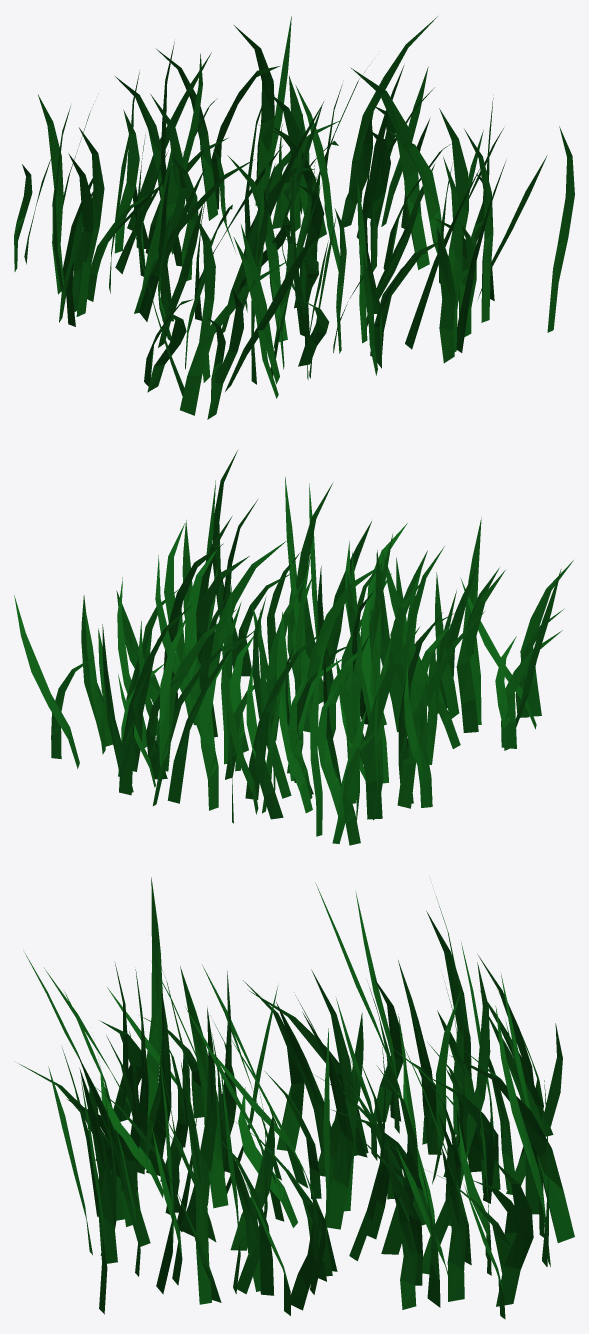
File: GrassV2.fbx
3 renders of one model, top to bottom at view 1: azimuth 30°, elevation 25°; view 2: azimuth 150°, elevation 25°; view 3: azimuth 270°, elevation 25°, orthographic. The views are drawn at different scales.
Visible parts, largest first — view 1: GenBase; view 2: GenBase; view 3: GenBase.
Boxes of the visible parts, x1,y1,x2,y2 form: GenBase: (14, 16, 574, 419); GenBase: (14, 450, 573, 845); GenBase: (19, 877, 574, 1319).
Bounding box in the file's own units: 86 × 39.54 × 81.79.
